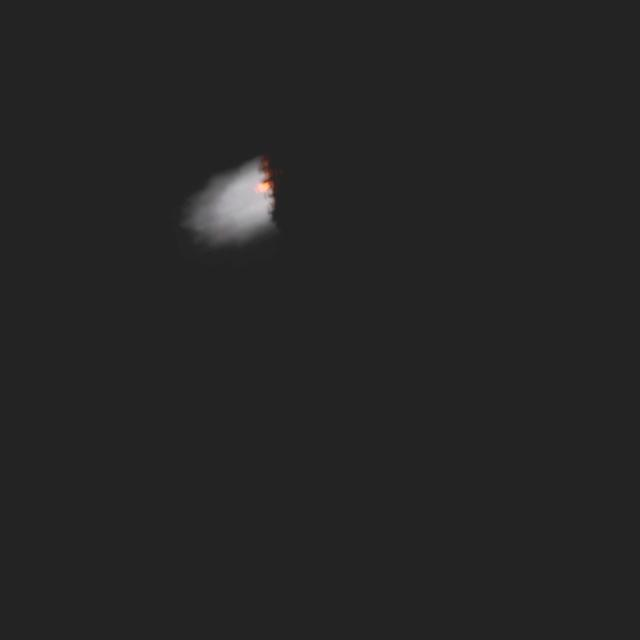fire: (251, 177, 271, 194)
smoke: (170, 154, 286, 258)
